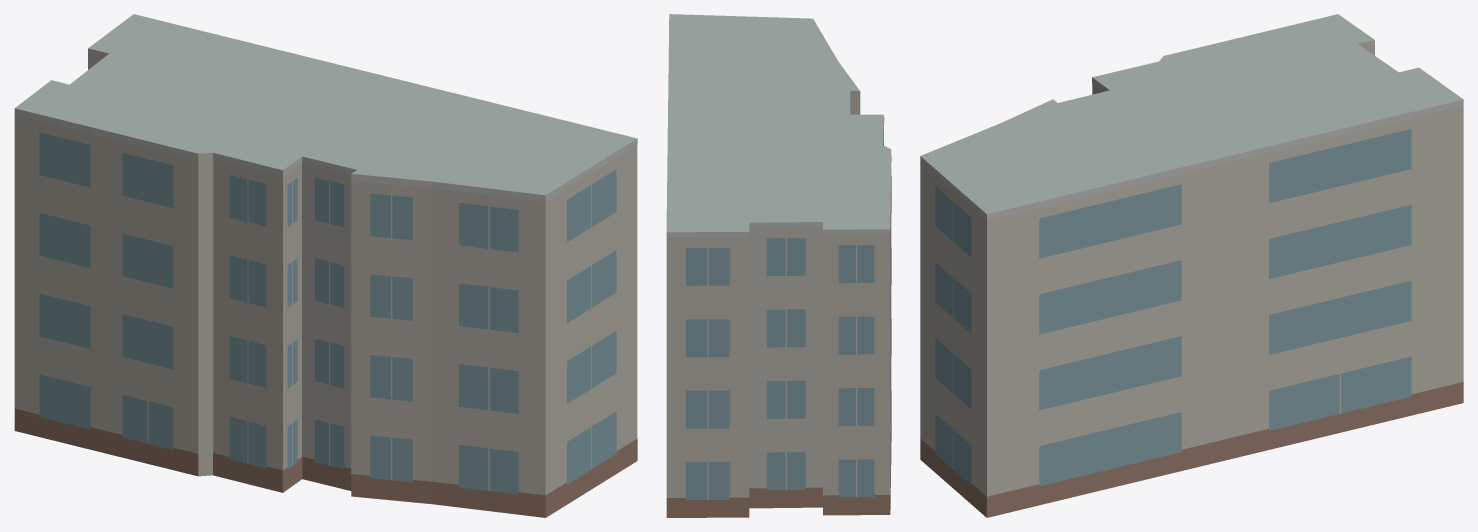
Rendered from survey-upis-32786465.glb.
The picture shows the model from 3 angles, left to right: view 1: azimuth 30°, elevation 25°; view 2: azimuth 150°, elevation 25°; view 3: azimuth 270°, elevation 25°; orthographic projection. The views are drawn at different scales.
Parts seen in each view (by area): view 1: survey-upis-32786465.tmp; view 2: survey-upis-32786465.tmp; view 3: survey-upis-32786465.tmp.
Part boxes in pixels (bbox=[...]): survey-upis-32786465.tmp: bbox=[14, 14, 637, 517]; survey-upis-32786465.tmp: bbox=[666, 14, 891, 517]; survey-upis-32786465.tmp: bbox=[920, 14, 1463, 517].
Size of the model in its own units: 17.06 by 12.05 by 19.55.
